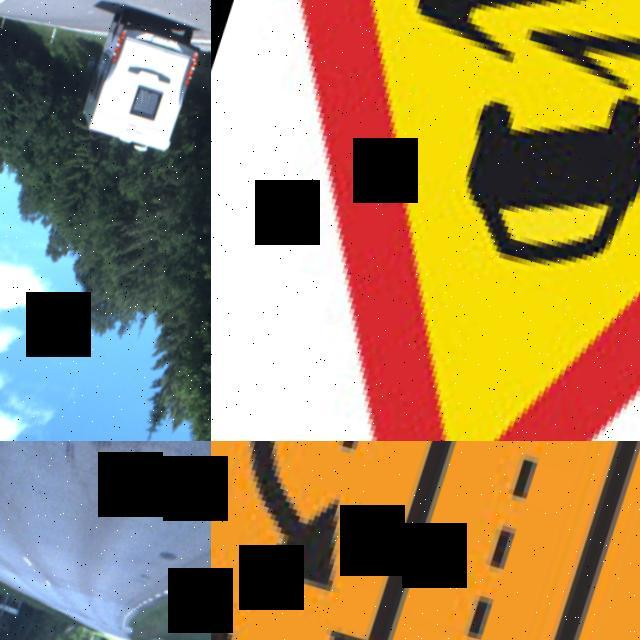64: (211, 441, 640, 640)
Slippery road: (211, 0, 640, 441)
